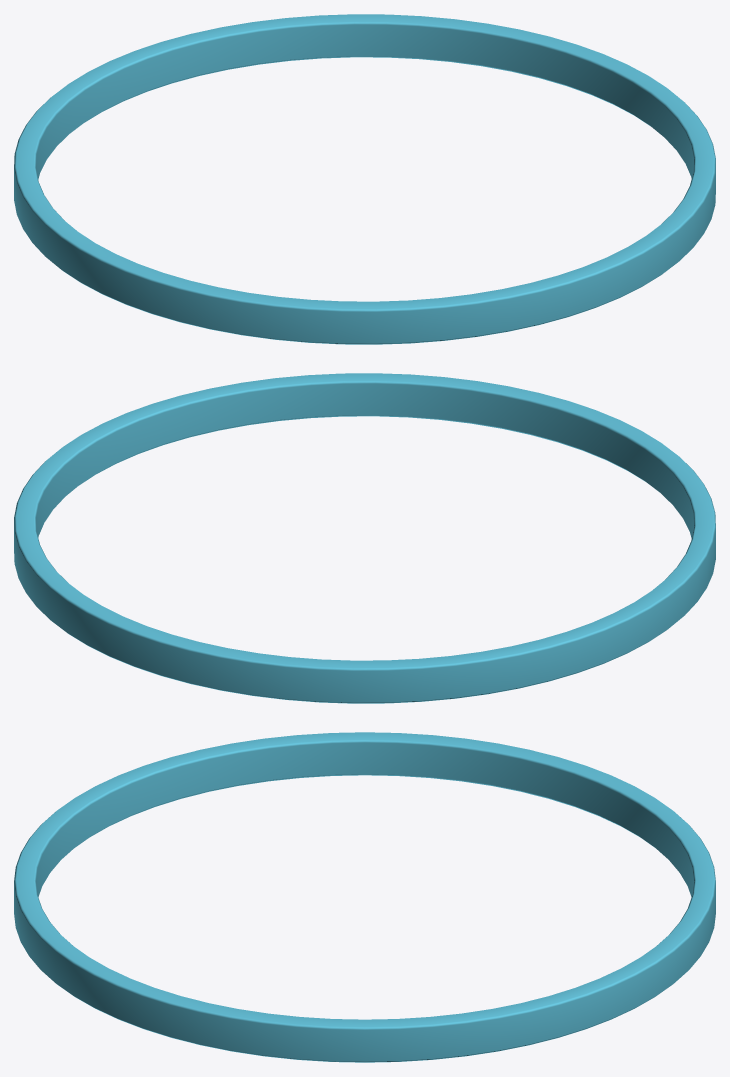
The picture shows the model from 3 angles, top to bottom: view 1: azimuth 30°, elevation 25°; view 2: azimuth 150°, elevation 25°; view 3: azimuth 270°, elevation 25°; orthographic projection.
Parts seen in each view (by area): view 1: seal_body; view 2: seal_body; view 3: seal_body.
Part boxes in pixels (x1=…): seal_body: x1=14, y1=14, x2=715, y2=344; seal_body: x1=14, y1=373, x2=715, y2=703; seal_body: x1=14, y1=732, x2=715, y2=1062.
Size of the model in its own units: 0.1923 by 0.0108 by 0.1923.
